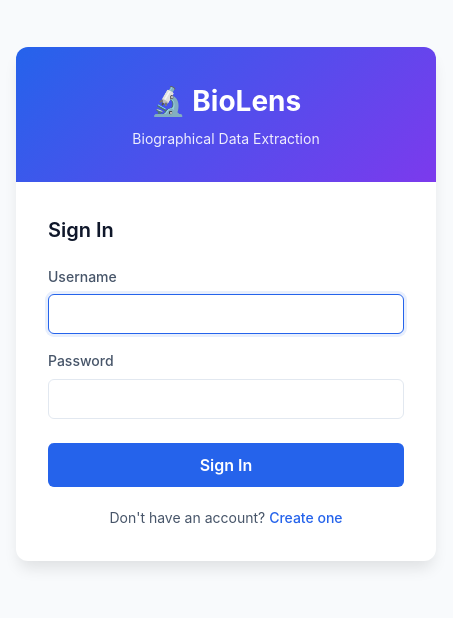
Test: LoginScreen › shows error on failed login
In the field labelled "Username": (226, 314) [48,294,404,334], type "baduser"
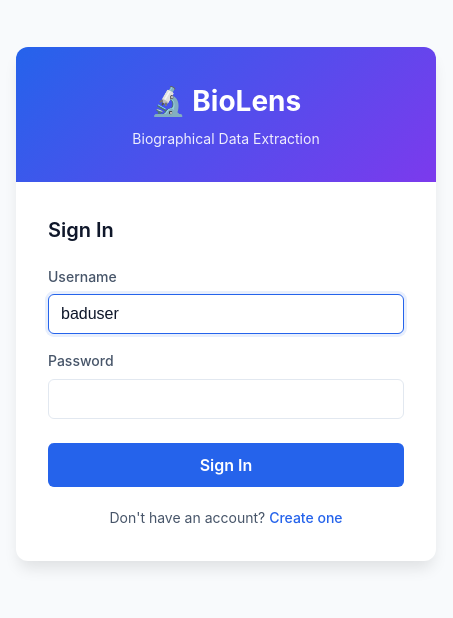
In the password field labelled "Password": (226, 399) [48,379,404,419], type "badpass"
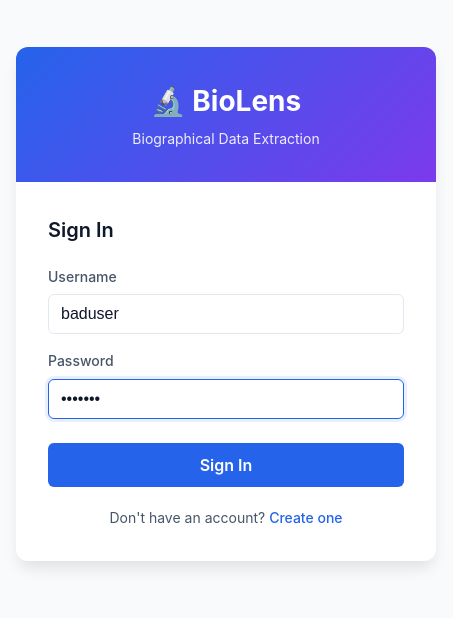
Click the button "Sign In": click(226, 465) [48,443,404,487]
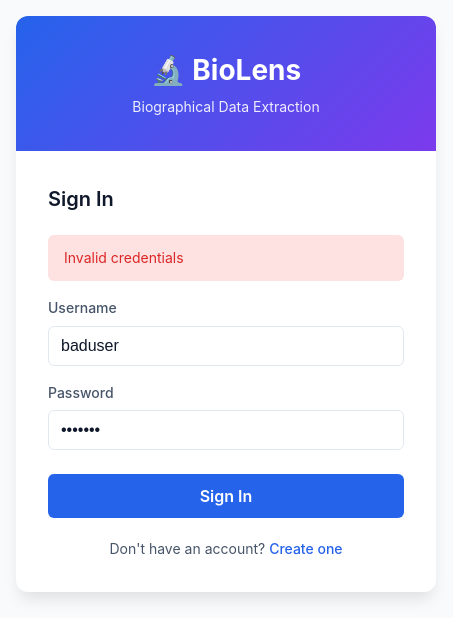
Expected: the text "Invalid credentials" is shown, [48,235,404,281]
